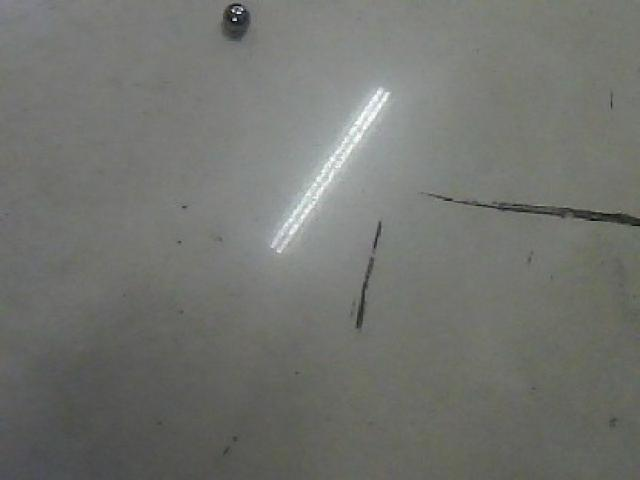steel-ball: (206, 0, 268, 48)
